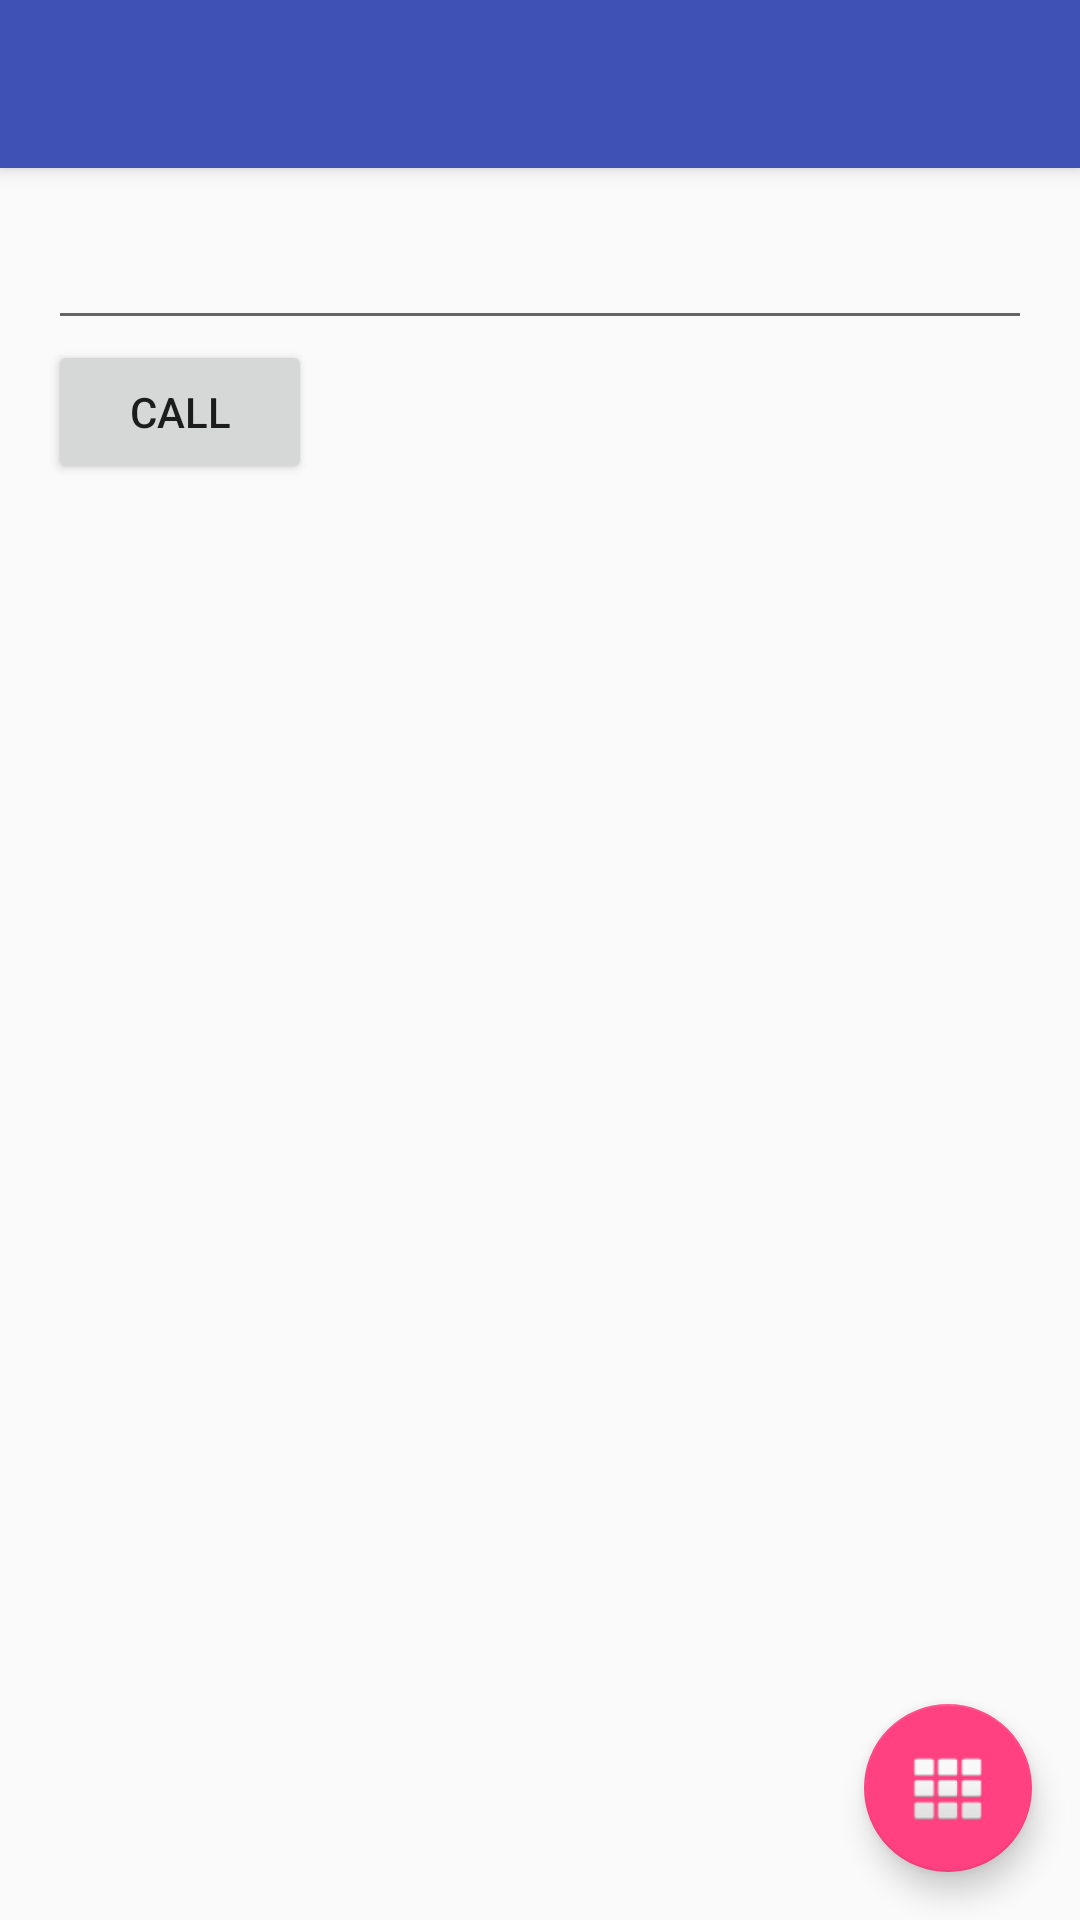

Named icons in this screenshot (1080w x 1920h) and their centers, (x,y):
dialer: (948,1788)
